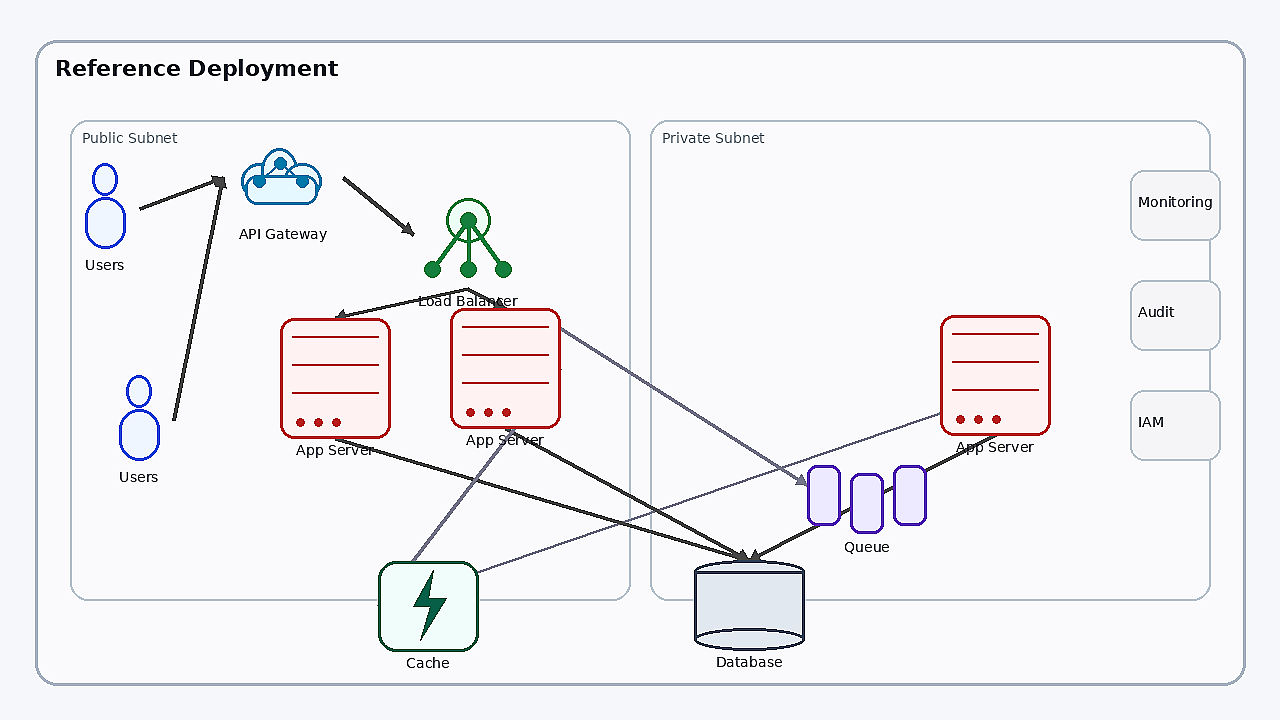API Gateway: (223, 132, 343, 222)
Application Server: (940, 315, 1050, 435), (280, 318, 390, 438), (450, 308, 560, 428)
Cache: (378, 561, 478, 651)
Database: (694, 560, 804, 650)
Load Balancer: (413, 179, 523, 289)
Message Queue: (807, 465, 927, 535)
User: (70, 163, 140, 253), (104, 375, 174, 465)
